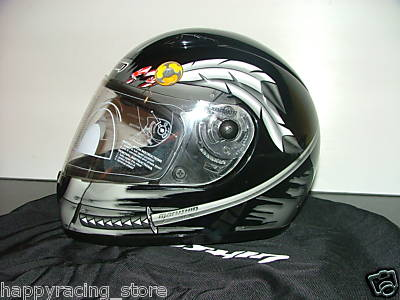helmet: (86, 23, 312, 224)
